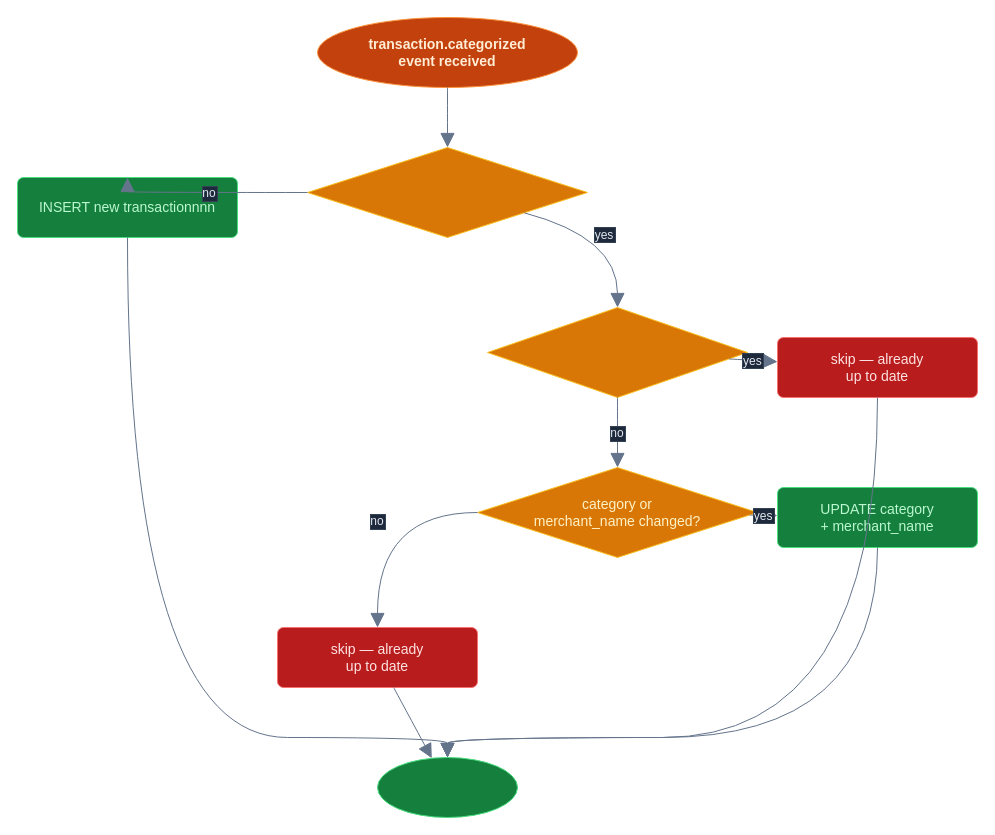
Image size: 995x835. Some labels were removed from this diagram. The centre of each missing label's shape, as x and y in pixels:
"ack" goes at pixel 447 787.
"category_overridden = true?" goes at pixel 617 352.
"dedup_key exists?" goes at pixel 447 192.
